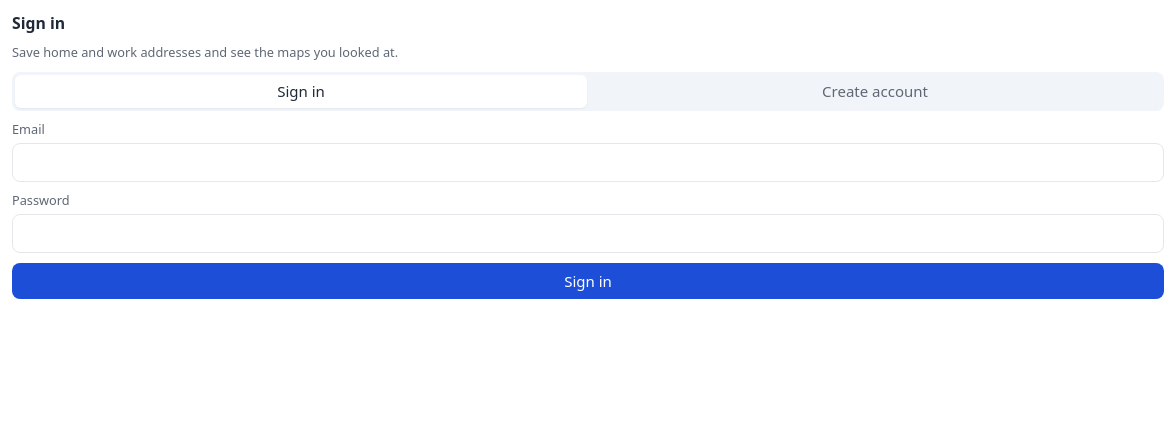
Test: sign-in and registration form › asks for a longer password when creating an account
The image size is (1176, 431).
Click the tab "Create account" at {"x": 875, "y": 91}, box top-left (589, 75), bottom-right (1161, 108)
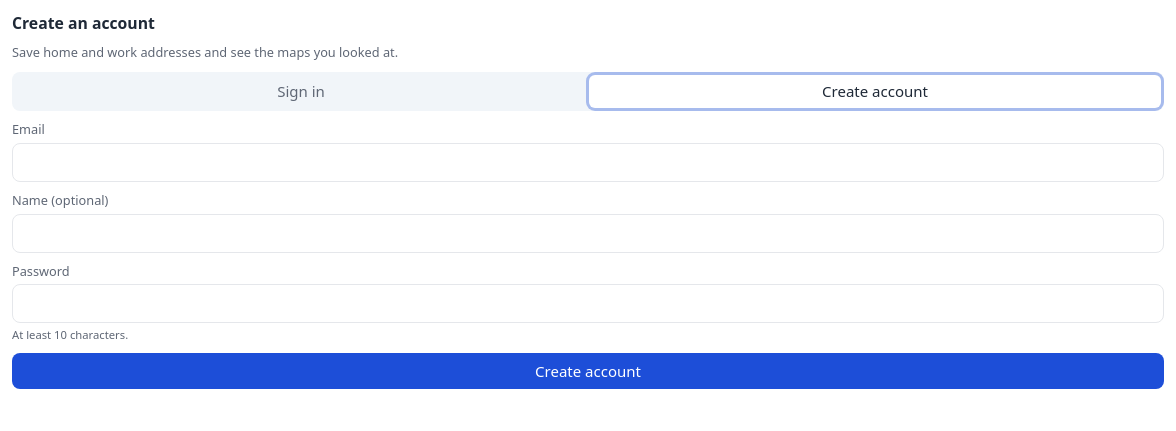
Type "ann@example.com" into the field labelled "Email" at {"x": 588, "y": 162}, box top-left (12, 143), bottom-right (1164, 182)
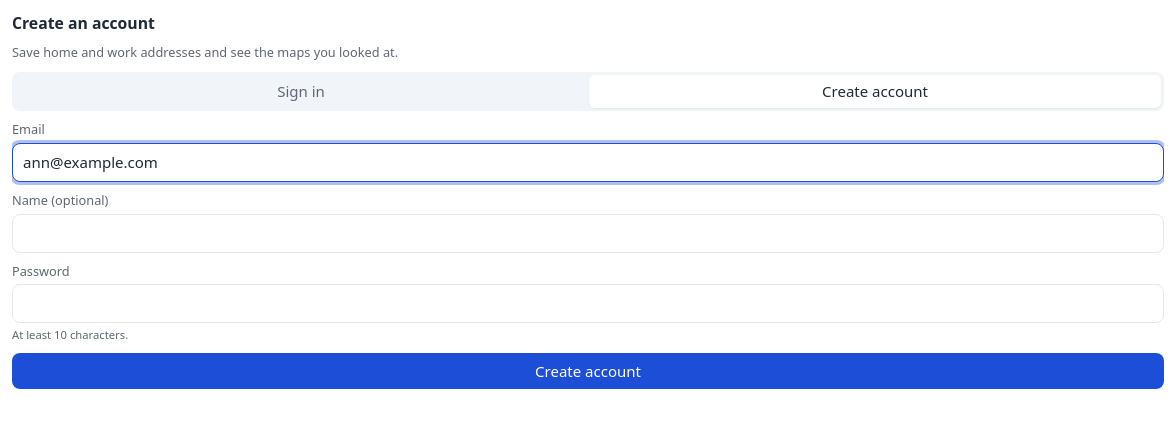
Type "short" into the password field labelled "Password" at {"x": 588, "y": 304}, box top-left (12, 284), bottom-right (1164, 323)
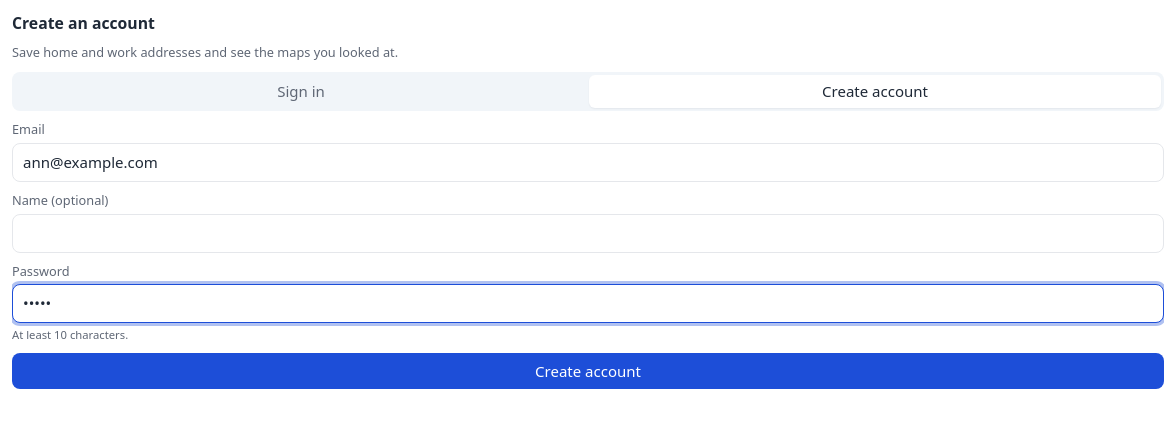
Click the button "Create account" at {"x": 588, "y": 371}, box top-left (12, 353), bottom-right (1164, 389)
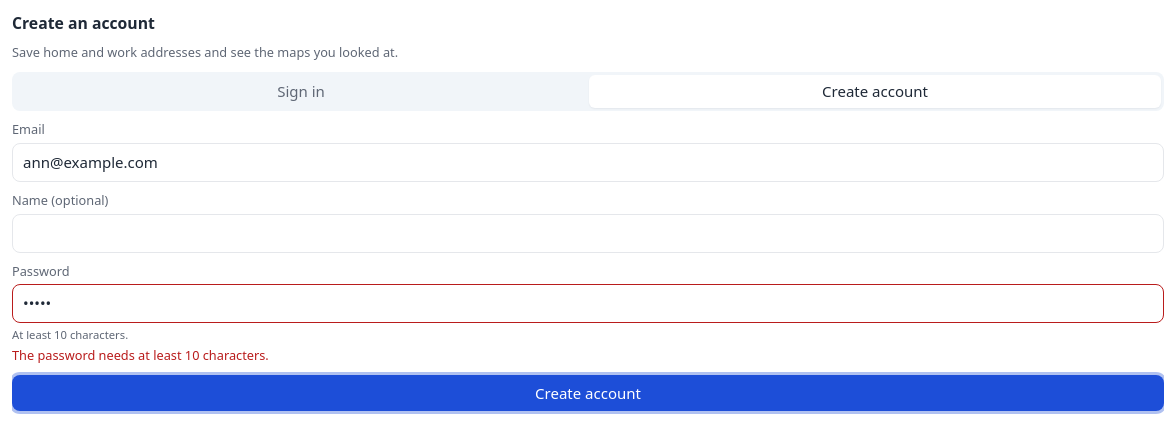
expect the text "The password needs at least 10 characters." is shown: met, box top-left (12, 346), bottom-right (269, 364)
